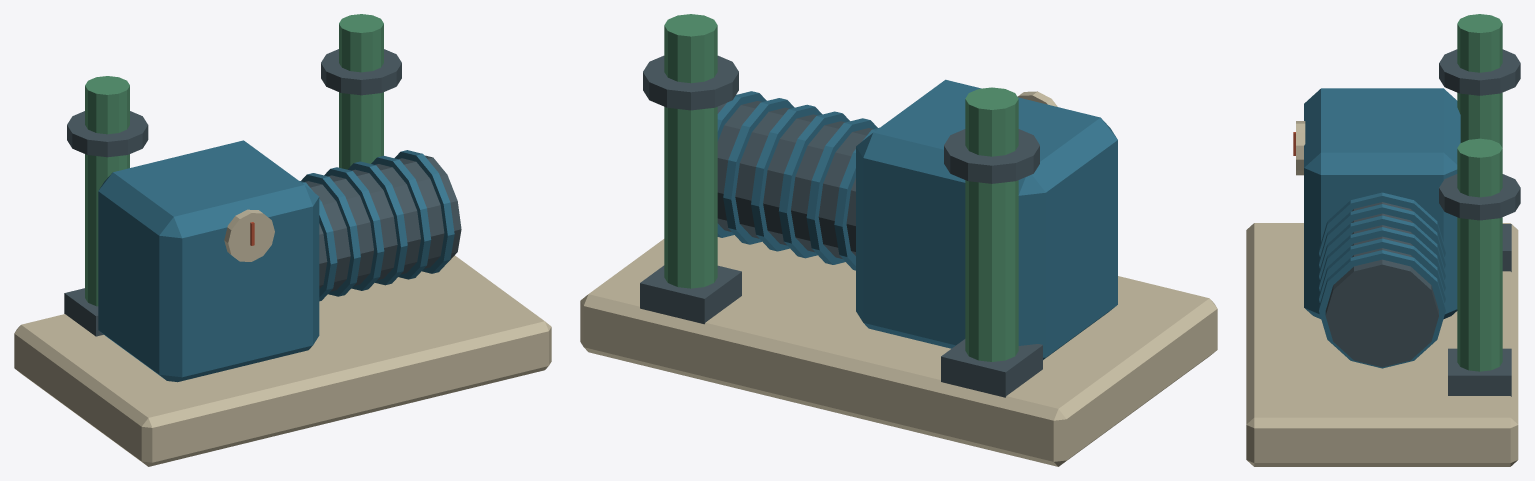
The model's file is water_pump.glb.
3 renders of one model, left to right at view 1: azimuth 30°, elevation 25°; view 2: azimuth 150°, elevation 25°; view 3: azimuth 270°, elevation 25°, orthographic. The views are drawn at different scales.
Visible parts, largest first — view 1: water_pump; view 2: water_pump; view 3: water_pump.
Part boxes in pixels (<box>): water_pump: <box>14,14,551,466</box>; water_pump: <box>580,14,1217,466</box>; water_pump: <box>1246,14,1520,466</box>.
Size of the model in its own units: 2.1 by 1.38 by 1.21.
